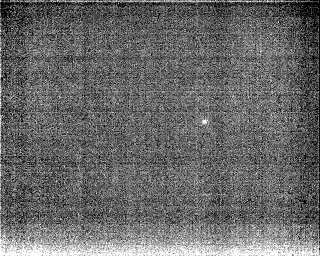BIRD: (200, 116, 210, 126)
